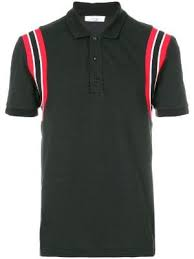C_polo shirt: (7, 10, 183, 257)
